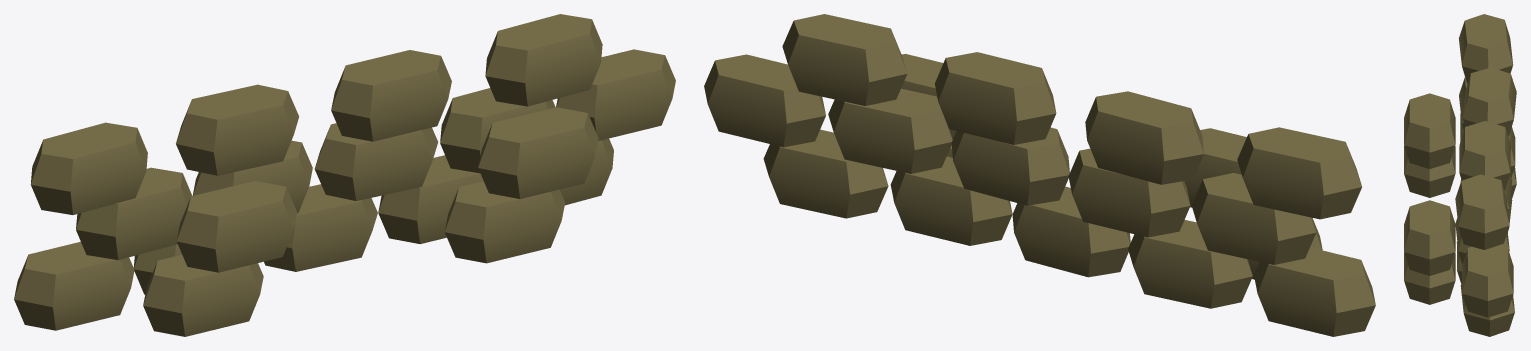
File: sandbag_wall.glb
3 views of the same model, side by side, from view 1: azimuth 30°, elevation 25°; view 2: azimuth 150°, elevation 25°; view 3: azimuth 270°, elevation 25° (orthographic). The views are drawn at different scales.
Visible parts, largest first — view 1: sandbag_wall; view 2: sandbag_wall; view 3: sandbag_wall.
Part boxes in pixels (<box>): sandbag_wall: <box>14,14,675,336</box>; sandbag_wall: <box>704,14,1375,336</box>; sandbag_wall: <box>1404,14,1516,336</box>.
Bounding box in the file's own units: 2.97 × 0.7201 × 0.6019.
